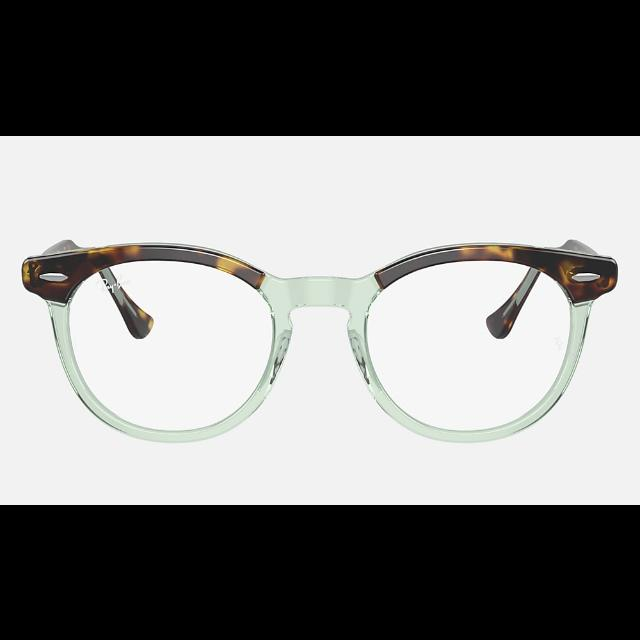glasses: (21, 235, 618, 442)
